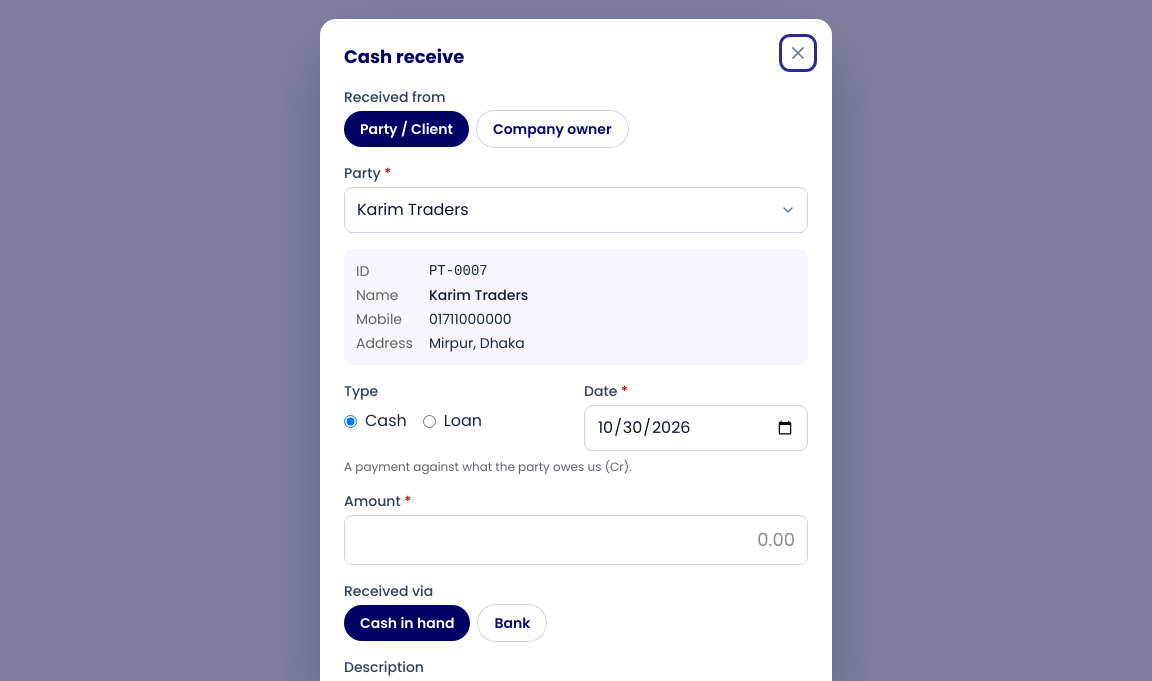
Test case: CashReceiptFormDialog › shows the API validation errors
Type "10" into the field labelled "Amount *" at (576, 540), box [344, 515, 808, 565]
(page scrolled)
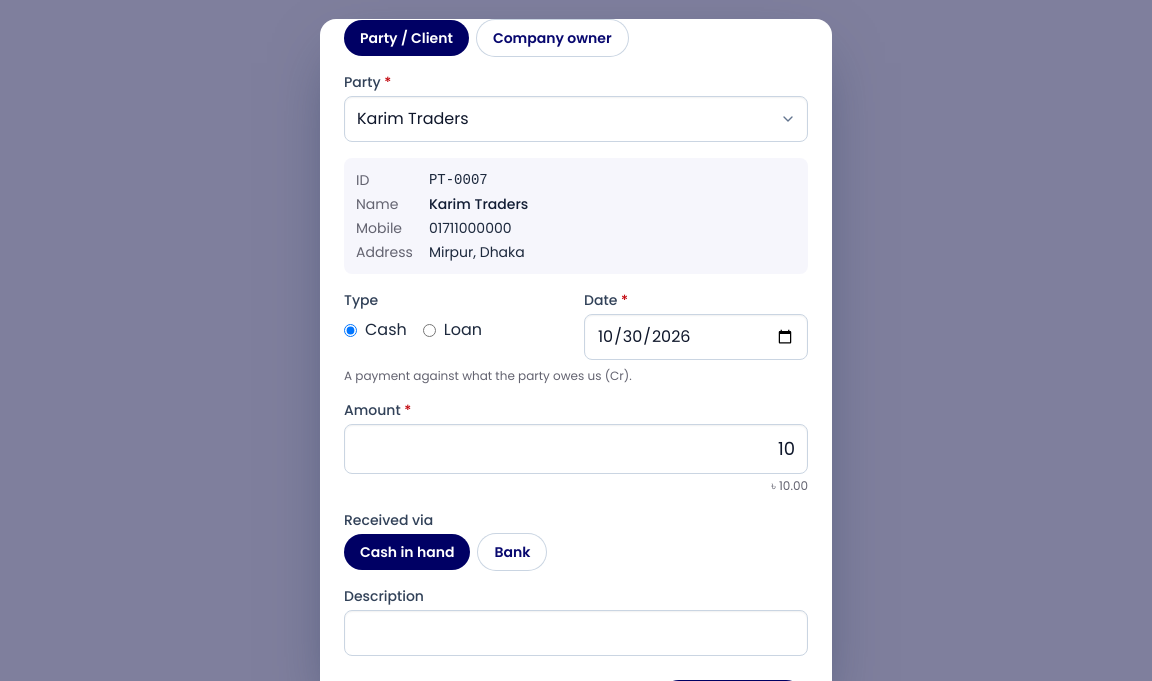
Submit the form
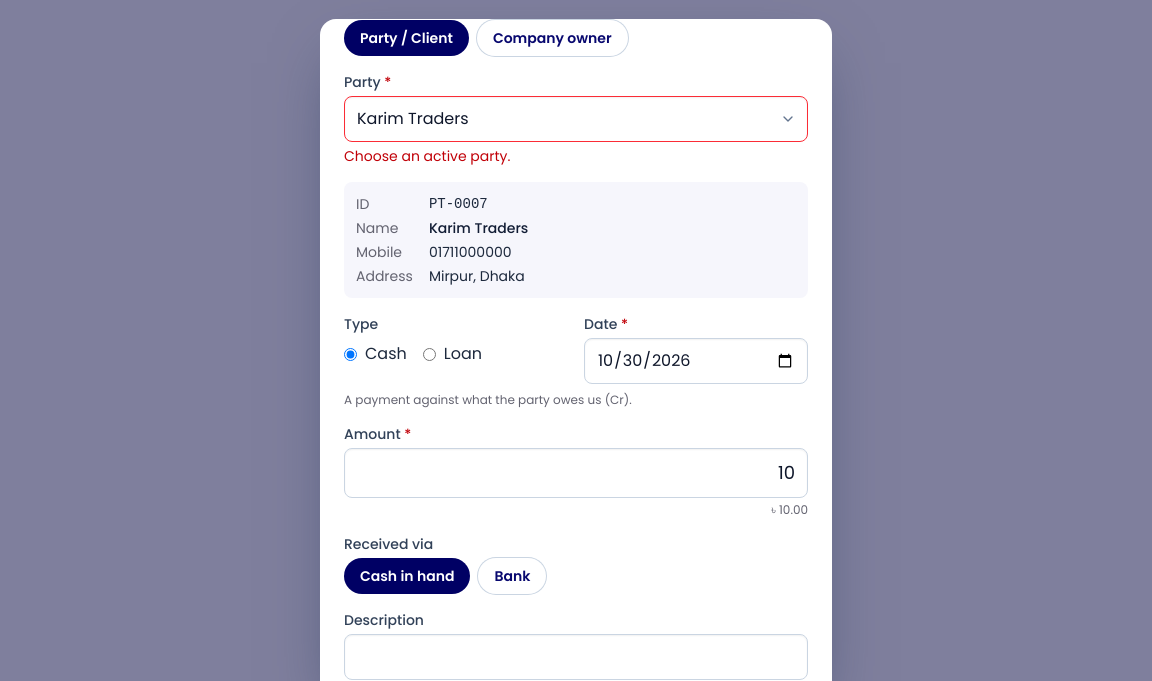
Now the element showing "Party * Choose an active party." is shown, box [344, 72, 808, 166]
